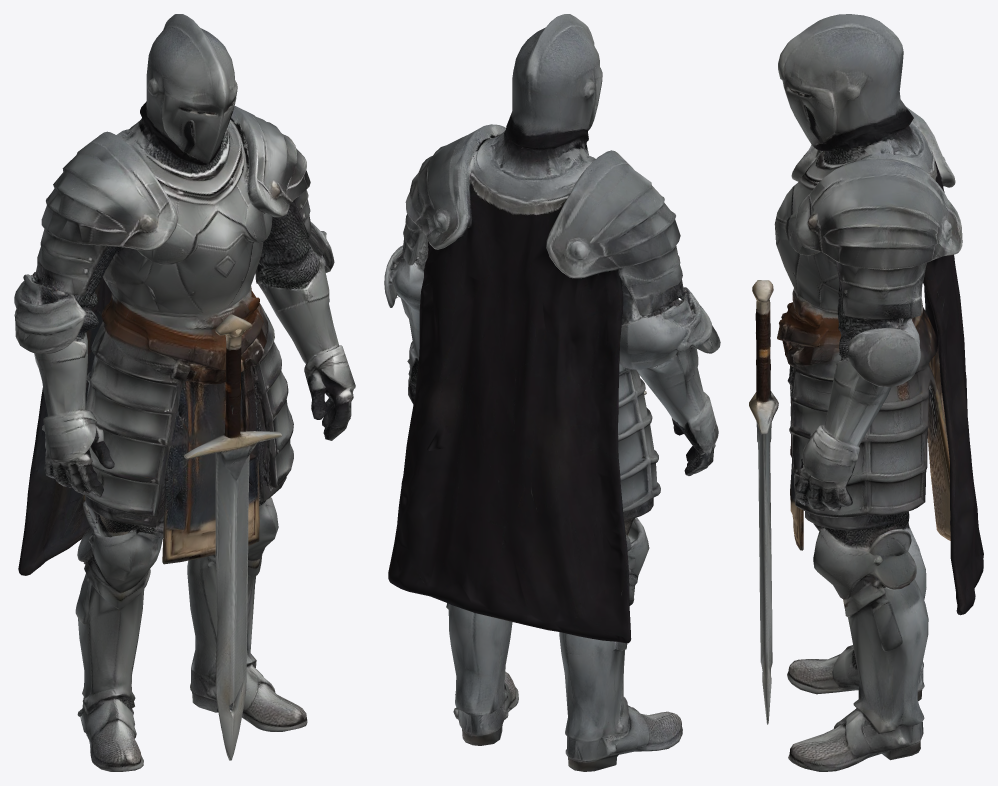
The model's file is TC004_Meshy 6 Preview.glb.
3 renders of one model, left to right at view 1: azimuth 30°, elevation 25°; view 2: azimuth 150°, elevation 25°; view 3: azimuth 270°, elevation 25°, orthographic.
Bounding box in the file's own units: 0.8867 × 1.91 × 0.5712.
1 material, 1 textured.
